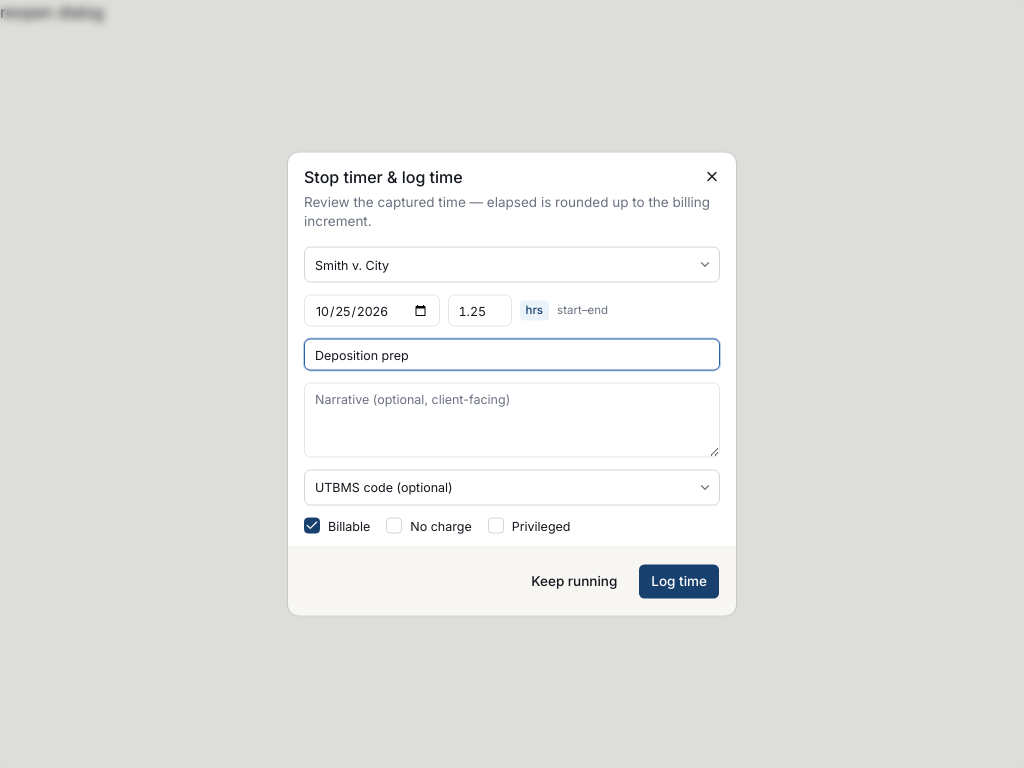
it: StopTimerDialog › a stale-timer refusal keeps the dialog open and shows the message
This screenshot has width=1024, height=768.
Step 1. Click the button "Log time" → (679, 582), box [638,564,720,600]
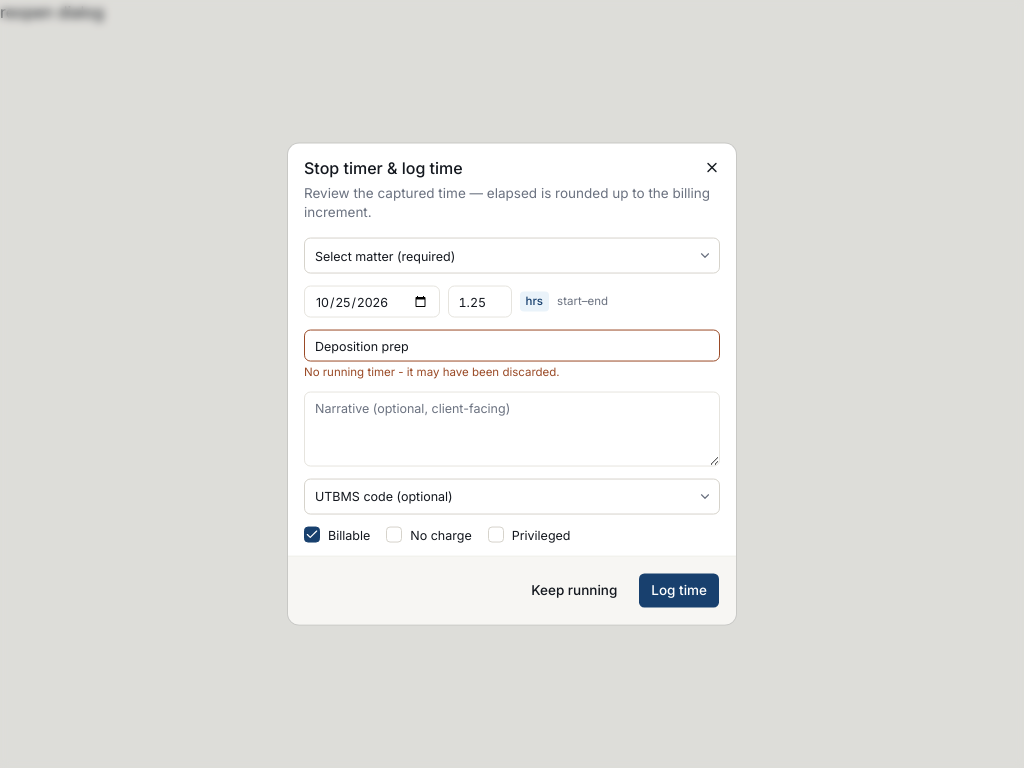
Expected: the text "No running timer - it may have been discarded." is shown, [304,364,560,378]
